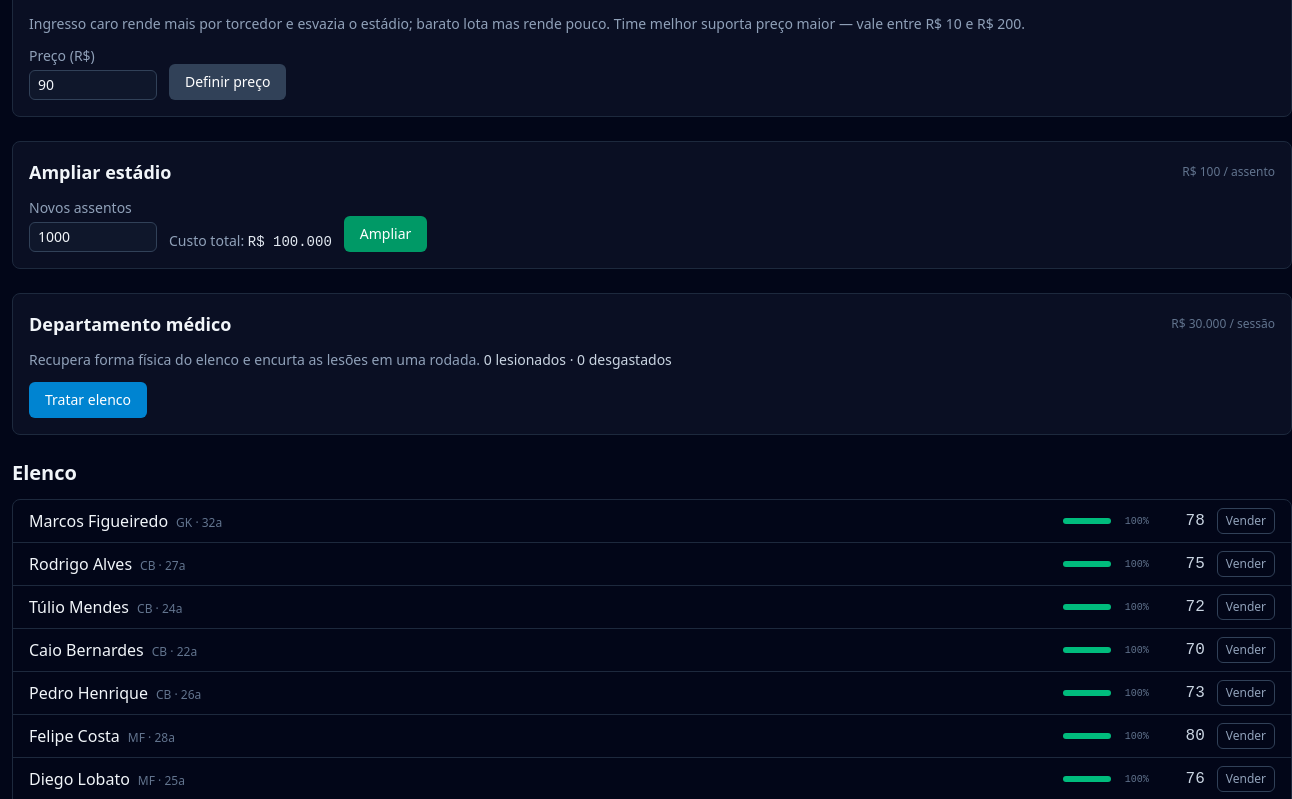
Test: DashboardPage › trata o elenco e debita o caixa via endpoint do mock
This screenshot has width=1292, height=799.
(page scrolled)
Step 1. Click the button "Tratar elenco" → [88, 400], box [29, 382, 147, 418]
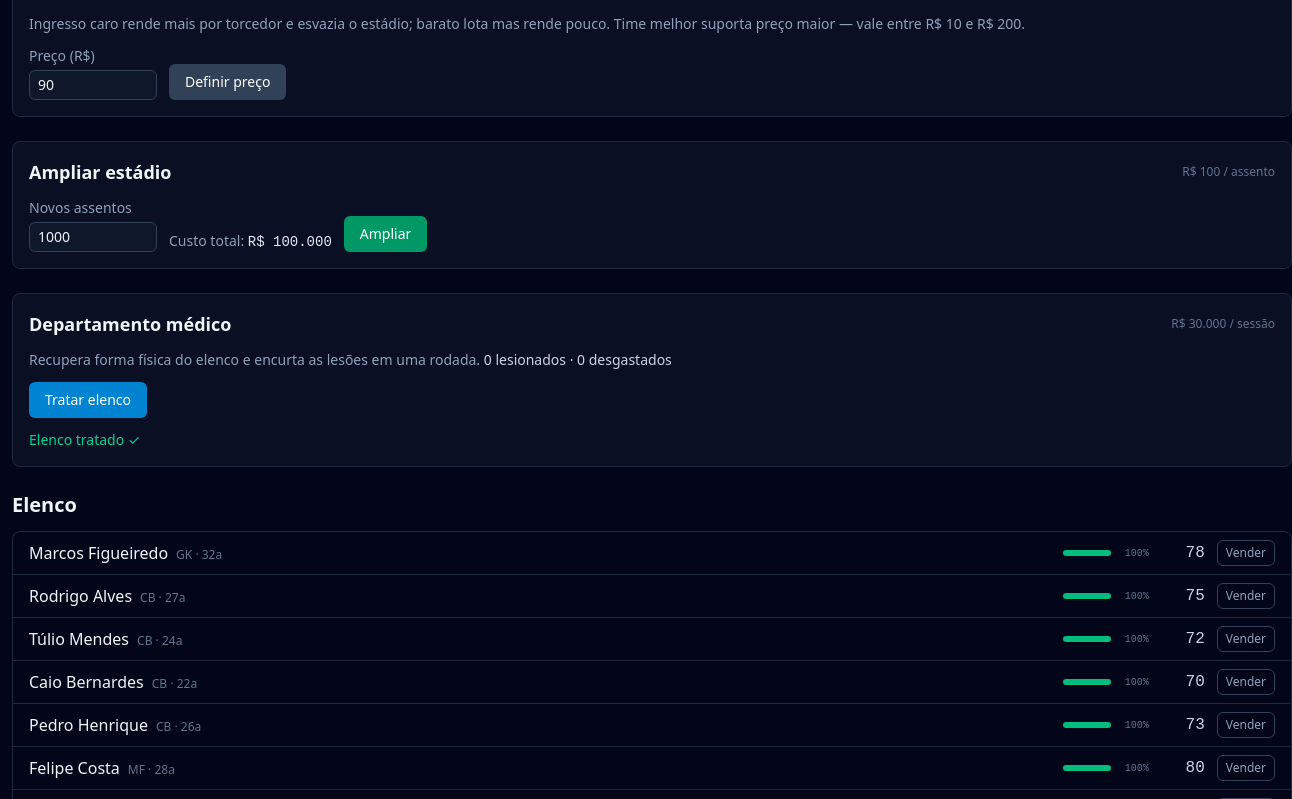
Expected: the text "Elenco tratado ✓" is shown, [29, 430, 140, 449]
